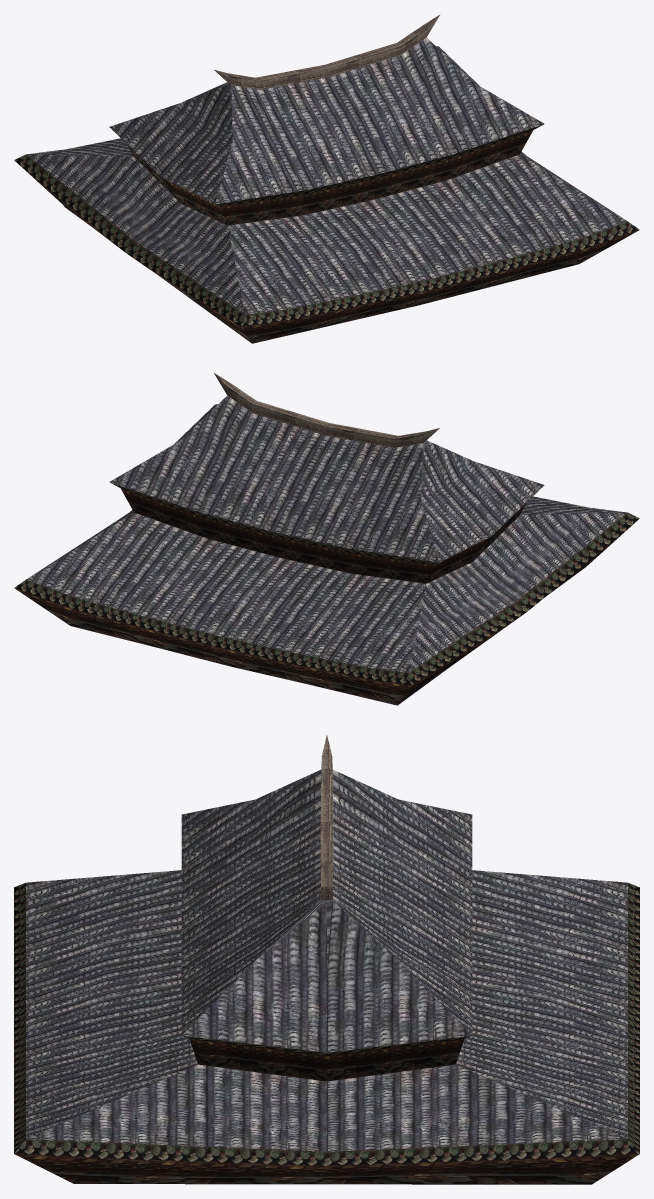
File: RoomG07.obj
3 views of the same model, one above another, from view 1: azimuth 30°, elevation 25°; view 2: azimuth 150°, elevation 25°; view 3: azimuth 270°, elevation 25° (orthographic). The views are drawn at different scales.
Visible parts, largest first — view 1: RoomG07; view 2: RoomG07; view 3: RoomG07.
Part boxes in pixels (x1,y1,x2,y2): RoomG07: (14,14,639,343); RoomG07: (14,373,639,705); RoomG07: (14,735,639,1184).
Size of the model in its own units: 501 by 234 by 494.
